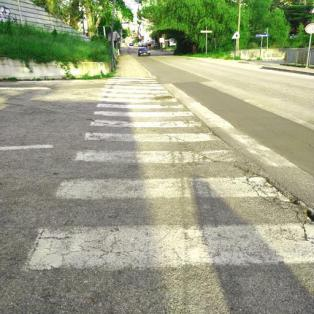Paso de Cebra: (68, 129, 253, 167), (94, 97, 188, 112)
